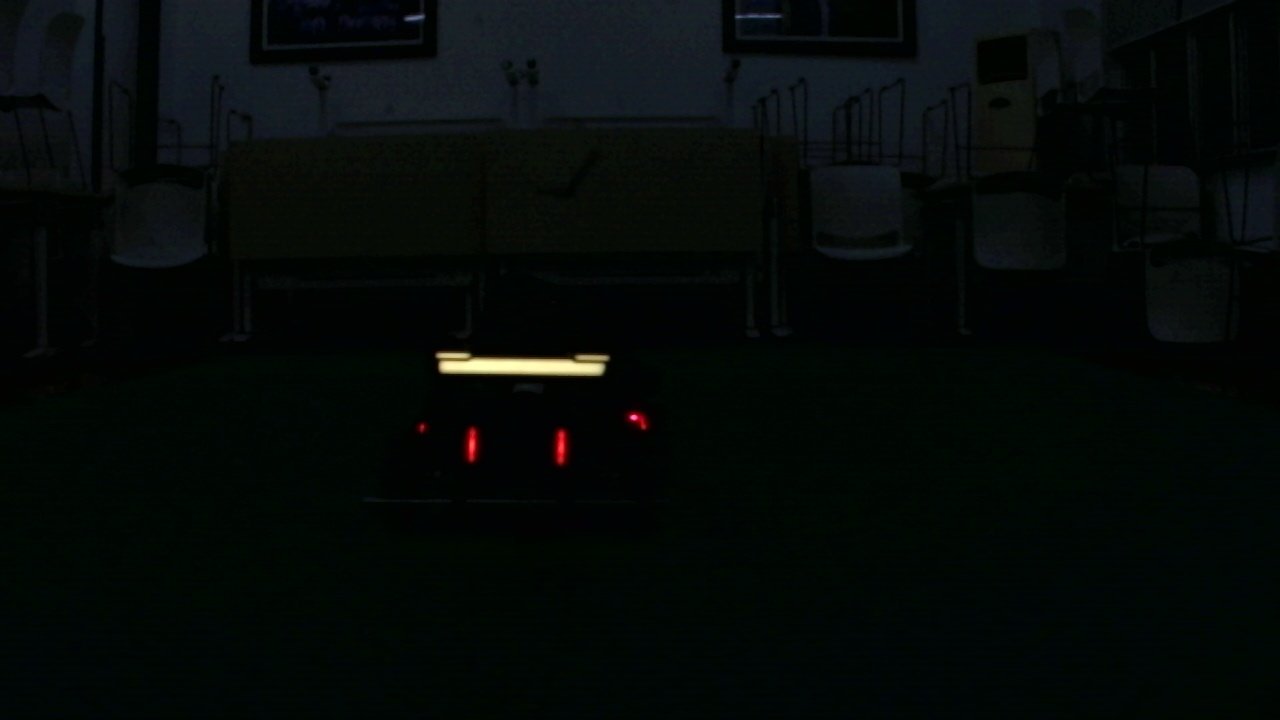lamp: (555, 426, 568, 465), (465, 429, 477, 464)
pair1: (466, 427, 564, 467)
